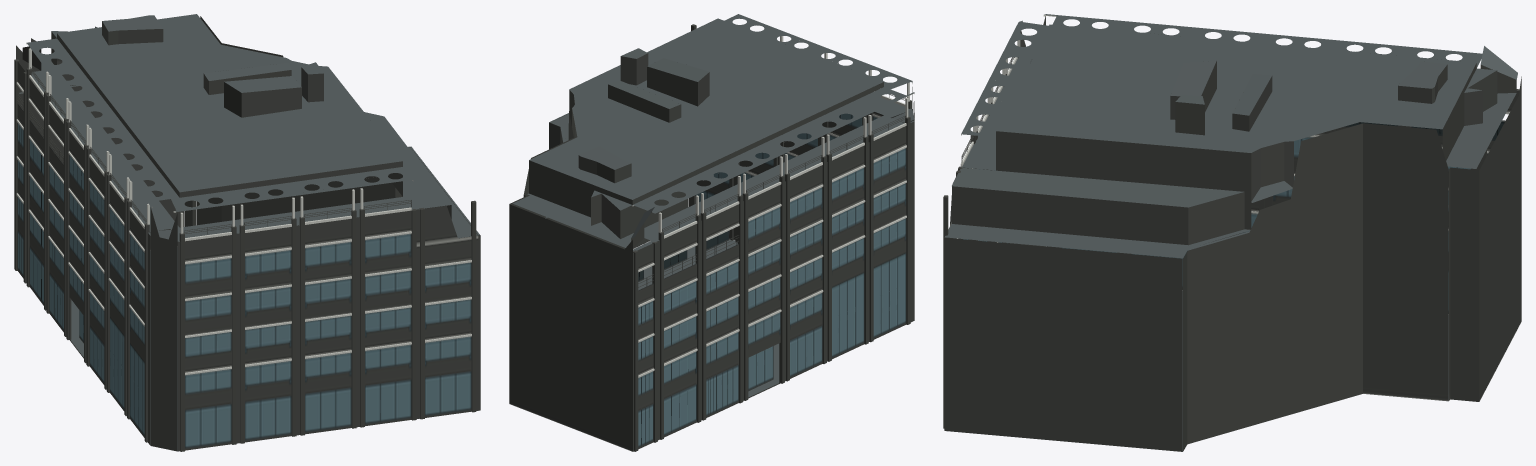
3 views of the same model, side by side, from view 1: azimuth 30°, elevation 25°; view 2: azimuth 150°, elevation 25°; view 3: azimuth 270°, elevation 25° (orthographic). The views are drawn at different scales.
Visible parts, largest first — view 1: 0363100012167975; view 2: 0363100012167975; view 3: 0363100012167975.
Boxes of the visible parts, <box> form: 0363100012167975: <box>14,14,480,451</box>; 0363100012167975: <box>509,14,914,451</box>; 0363100012167975: <box>943,14,1521,451</box>.
Bounding box in the file's own units: 31.52 × 25.48 × 44.3.
Materials: 3 (1 with a texture image).
